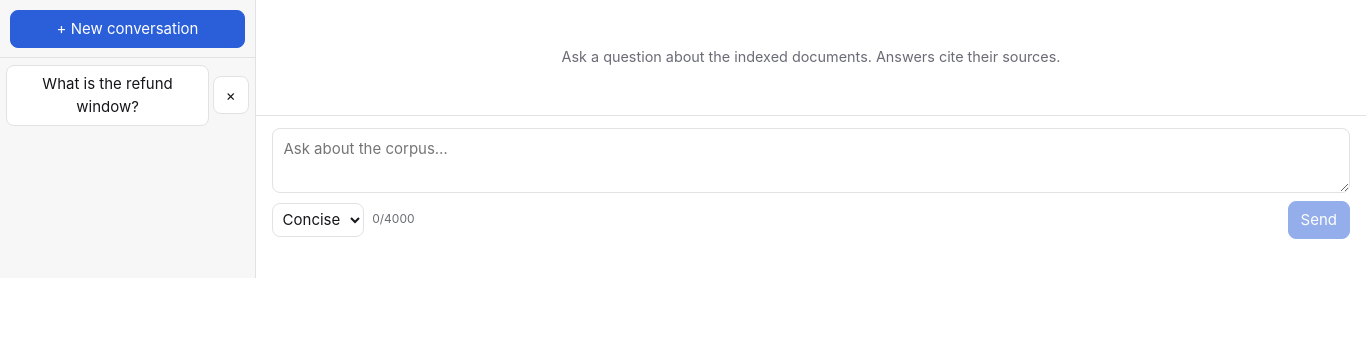
Test case: ChatPage › loads prior turns when a conversation is opened
Click the button titled "What is the refund window?".
click(108, 95)  # box [6,65,209,126]
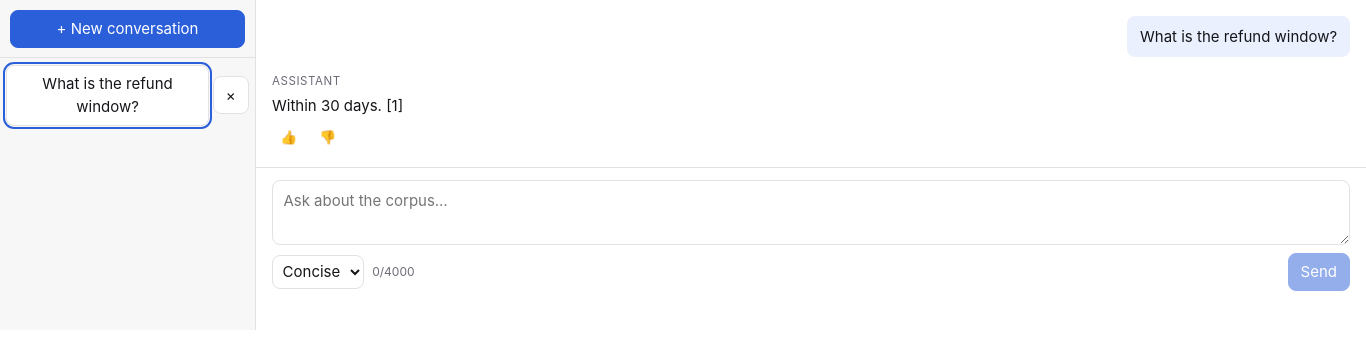
expect the text "Within 30 days. [1]" is shown: met, box [272,96,403,115]
expect the text "What is the refund window?" is shown: met, box [1127,16,1350,57]
